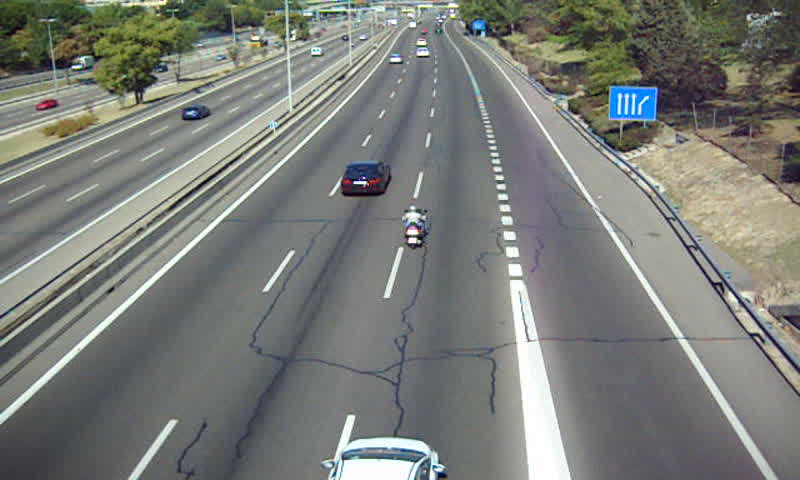car: (340, 160, 393, 196)
motorcycle: (401, 205, 428, 251)
